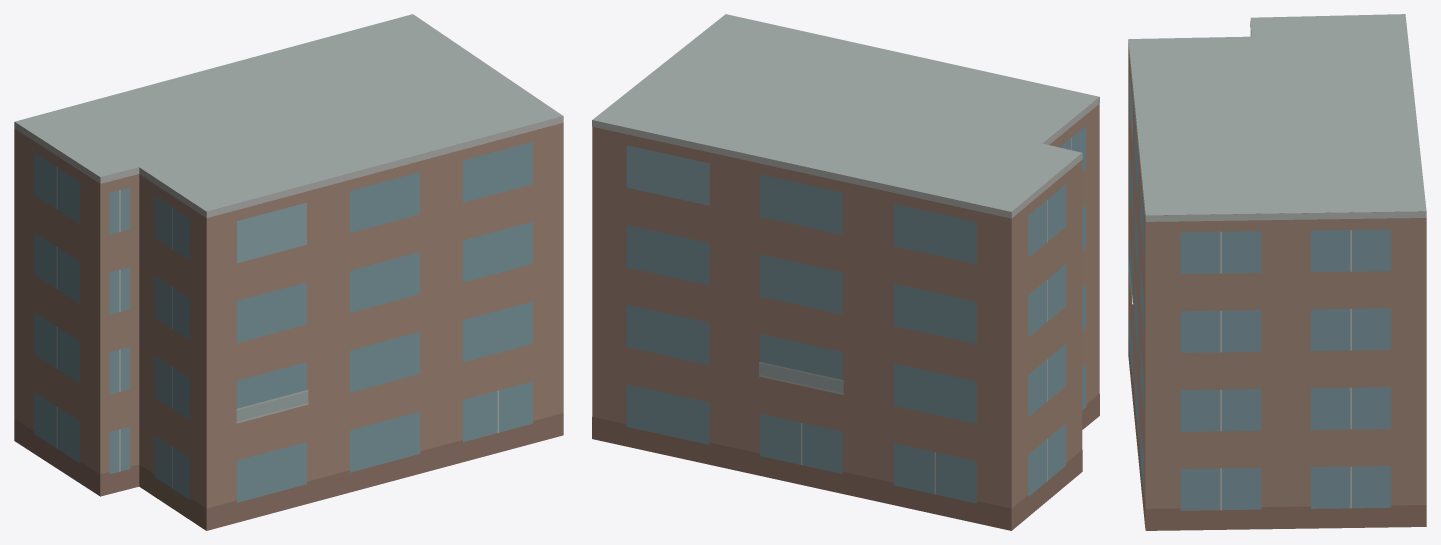
The model's file is survey-upis-32802909.glb.
3 renders of one model, left to right at view 1: azimuth 30°, elevation 25°; view 2: azimuth 150°, elevation 25°; view 3: azimuth 270°, elevation 25°, orthographic.
Parts seen in each view (by area): view 1: survey-upis-32802909.tmp; view 2: survey-upis-32802909.tmp; view 3: survey-upis-32802909.tmp.
Part boxes in pixels (<box>): survey-upis-32802909.tmp: <box>14,14,563,530</box>; survey-upis-32802909.tmp: <box>592,14,1099,530</box>; survey-upis-32802909.tmp: <box>1128,14,1426,530</box>.
Bounding box in the file's own units: 16.03 × 11.7 × 10.03.
